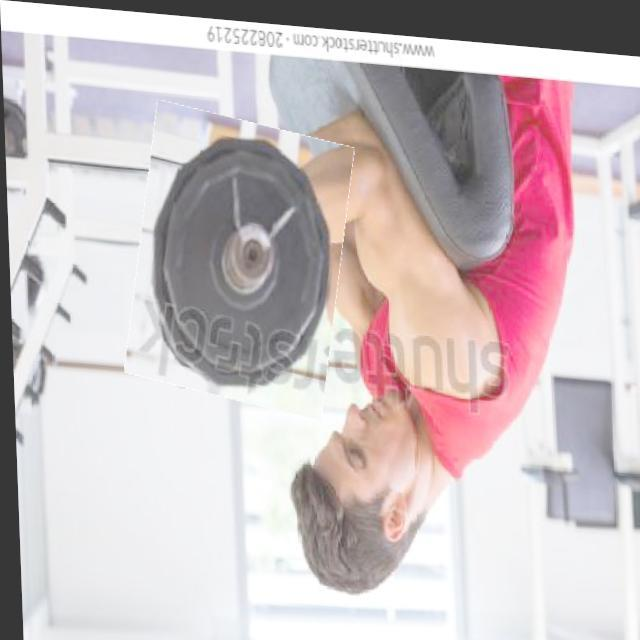barbell: (124, 102, 352, 410)
